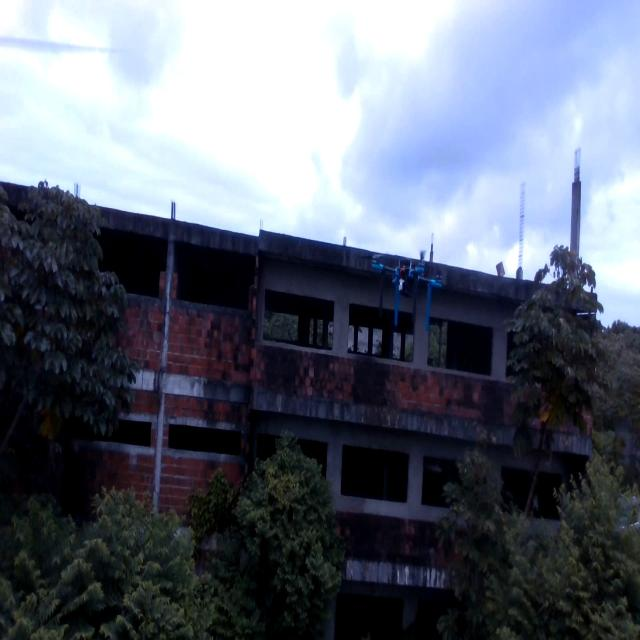-uav-: (364, 235, 445, 328)
